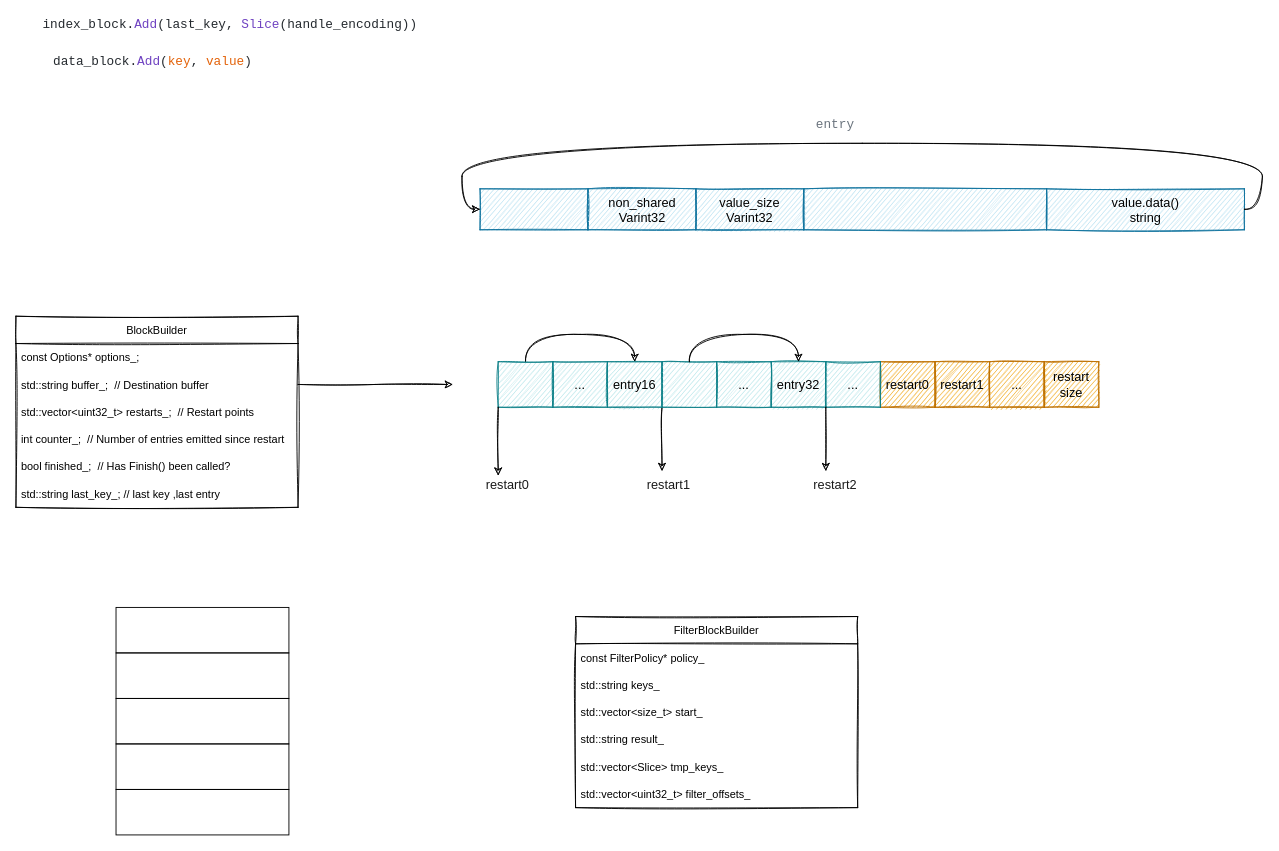
The diagram is 1279 pixels wide and 851 high, and some of its shapes have lost their labels. The centre of each missing label's shape, as x and y in pixels:
entry1: (525,384)
entry17: (689,384)
shared Varint32: (533,209)
sub(key.data() + shared, non_shared) string: (925,209)
